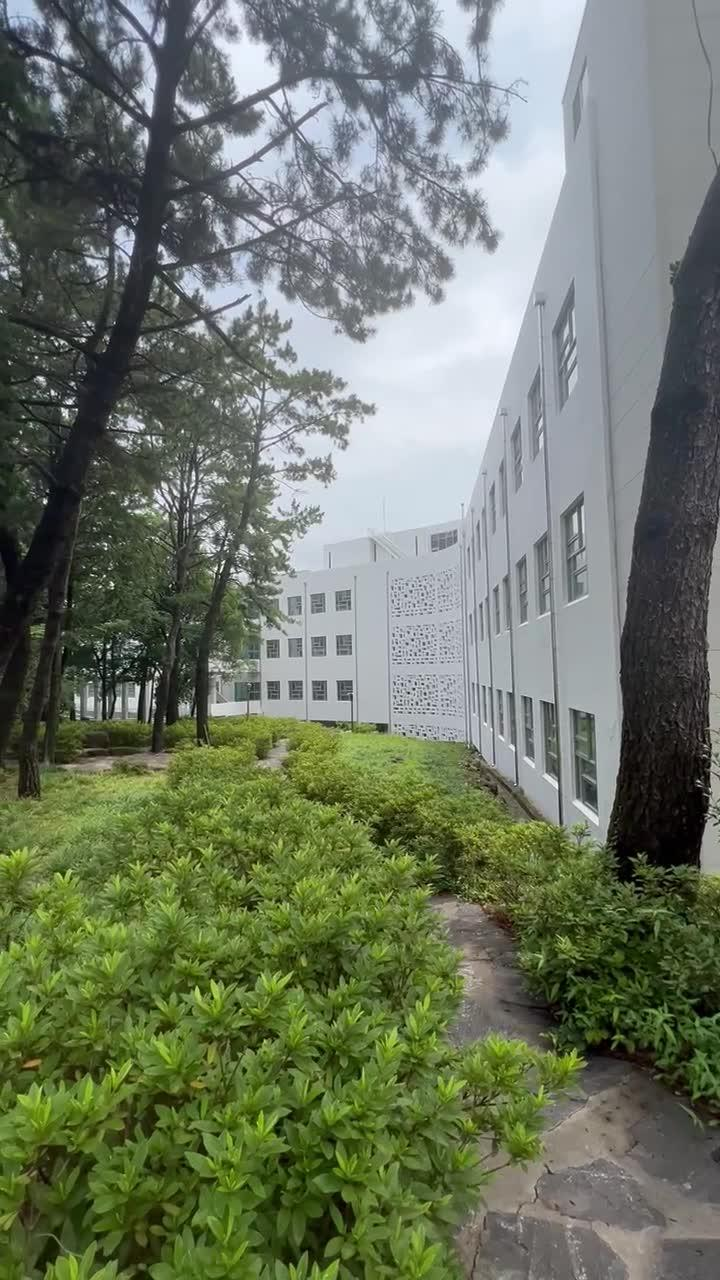building: (306, 516, 614, 750)
